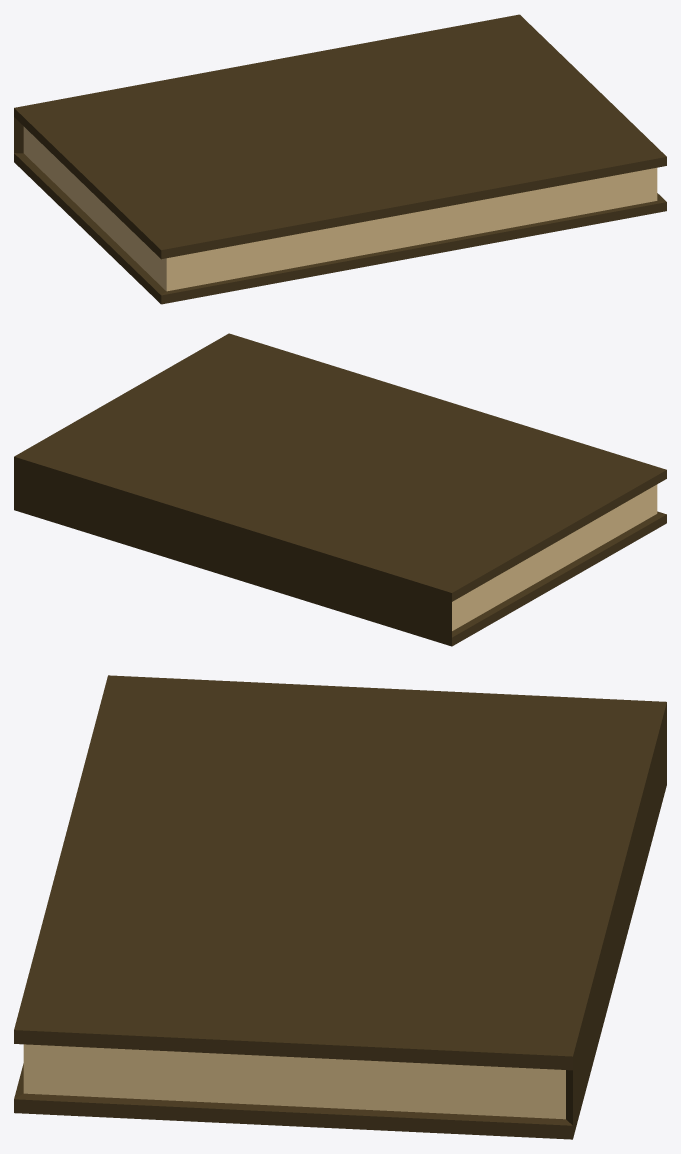
File: Book.fbx
3 views of the same model, one above another, from view 1: azimuth 30°, elevation 25°; view 2: azimuth 150°, elevation 25°; view 3: azimuth 270°, elevation 25° (orthographic). The views are drawn at different scales.
Visible parts, largest first — view 1: Book; view 2: Book; view 3: Book.
Part boxes in pixels (<box>): Book: <box>14,14,666,304</box>; Book: <box>14,333,666,646</box>; Book: <box>14,675,666,1139</box>.
Bounding box in the file's own units: 52.8 × 5.37 × 38.23.
